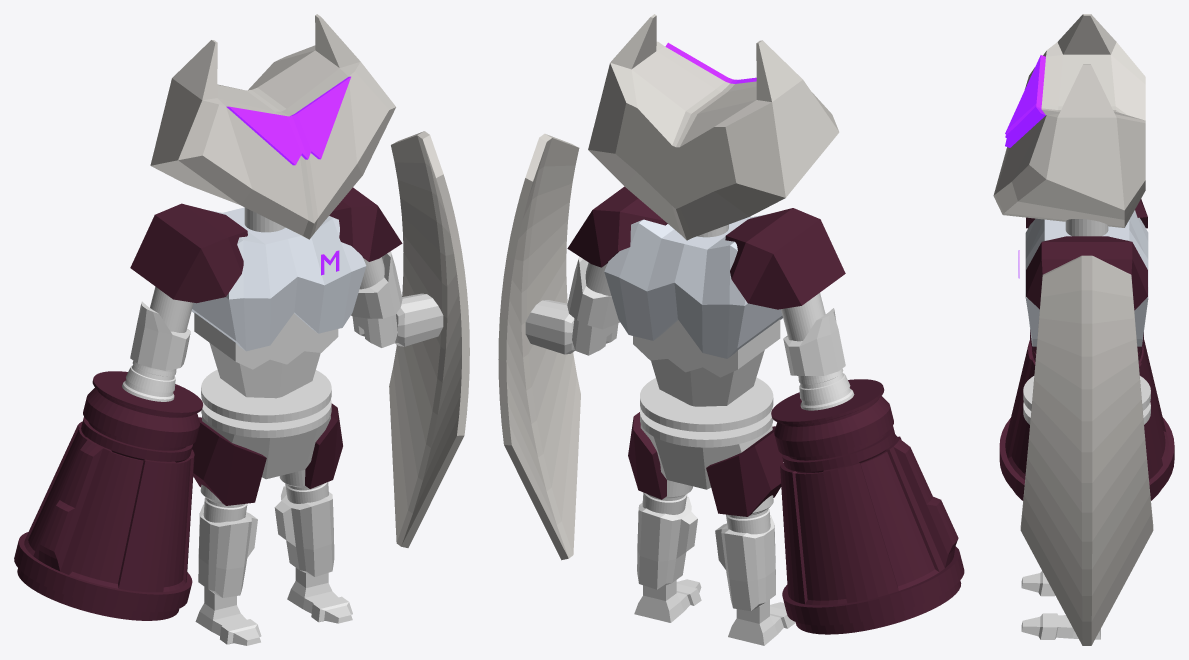
File: Mech2.glb
The picture shows the model from 3 angles, left to right: view 1: azimuth 30°, elevation 25°; view 2: azimuth 150°, elevation 25°; view 3: azimuth 270°, elevation 25°; orthographic projection. The views are drawn at different scales.
Parts seen in each view (by area): view 1: Cylinder.005, Cube, Plane, Cube.003, Cube.001, Cube.010, Cube.009, Cube.005, Cube.011, Cylinder.001, Cube.002, Cube.004 (+7 smaller); view 2: Cylinder.005, Cube, Plane, Cube.003, Cube.001, Cube.010, Cube.009, Cube.005, Cylinder.001, Cube.011, Cube.002, Cube.004 (+7 smaller); view 3: Plane, Cube, Cylinder.005, Cube.001, Cube.003, Cube.011, Cylinder, Cylinder.001.
Boxes of the visible parts, bbox=[...] form: Cylinder.005: bbox=[14, 371, 202, 620]; Cube: bbox=[150, 14, 395, 239]; Plane: bbox=[389, 131, 469, 547]; Cube.003: bbox=[191, 207, 366, 351]; Cube.001: bbox=[130, 187, 402, 303]; Cube.010: bbox=[198, 486, 334, 597]; Cube.009: bbox=[192, 403, 342, 505]; Cube.005: bbox=[130, 251, 402, 370]; Cube.011: bbox=[195, 568, 352, 645]; Cylinder.001: bbox=[201, 369, 331, 422]; Cube.002: bbox=[194, 313, 338, 369]; Cube.004: bbox=[209, 343, 320, 398]; Cylinder.005: bbox=[771, 379, 964, 634]; Cube: bbox=[588, 14, 839, 240]; Plane: bbox=[498, 133, 580, 560]; Cube.003: bbox=[604, 214, 782, 358]; Cube.001: bbox=[567, 186, 845, 309]; Cube.010: bbox=[637, 496, 775, 610]; Cube.009: bbox=[628, 412, 783, 516]; Cube.005: bbox=[567, 256, 845, 375]; Cylinder.001: bbox=[640, 377, 773, 431]; Cube.011: bbox=[634, 579, 794, 645]; Cube.002: bbox=[633, 319, 780, 377]; Cube.004: bbox=[651, 350, 764, 406]; Plane: bbox=[1020, 255, 1153, 645]; Cube: bbox=[993, 14, 1145, 227]; Cylinder.005: bbox=[999, 330, 1174, 500]; Cube.001: bbox=[1026, 199, 1147, 310]; Cube.003: bbox=[1025, 210, 1148, 346]; Cube.011: bbox=[1021, 571, 1100, 639]; Cylinder: bbox=[1065, 219, 1108, 236]; Cylinder.001: bbox=[1023, 376, 1150, 410].
Size of the model in its own units: 1.36 by 1.78 by 0.5116.
